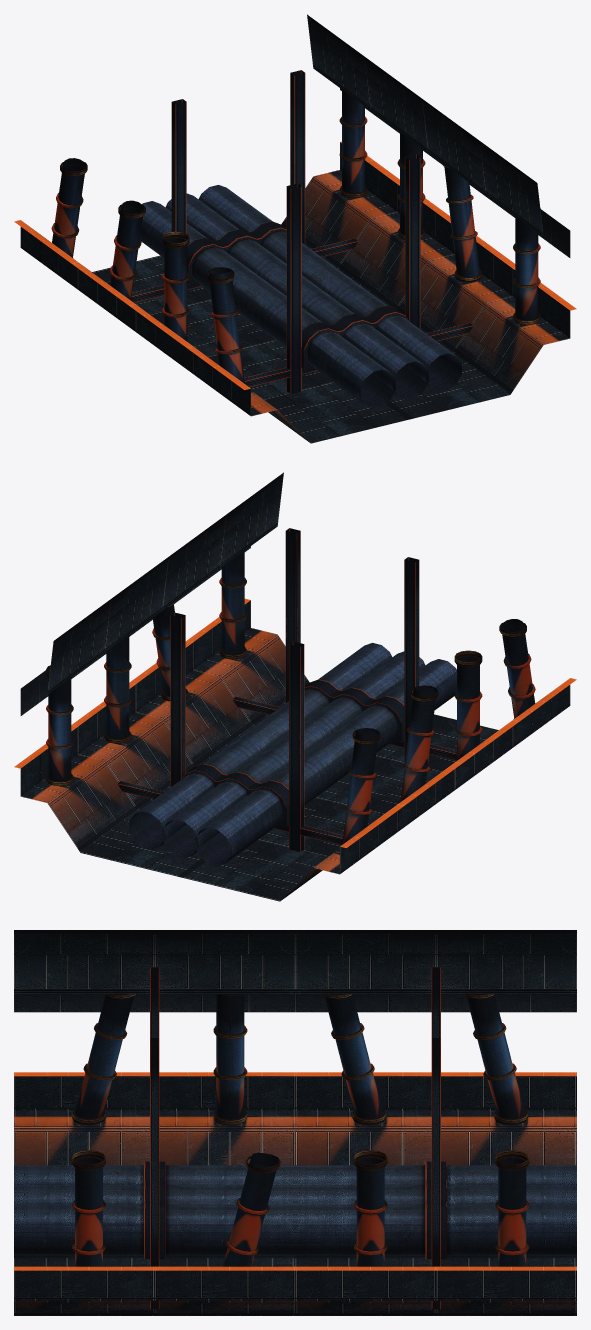
3 renders of one model, top to bottom at view 1: azimuth 30°, elevation 25°; view 2: azimuth 150°, elevation 25°; view 3: azimuth 270°, elevation 25°, orthographic. The views are drawn at different scales.
Visible parts, largest first — view 1: bg_a_wall00, bg_a_wall03, tube_00, bg_a_wall01; view 2: bg_a_wall00, bg_a_wall03, tube_00, bg_a_wall01; view 3: bg_a_wall00, bg_a_wall01, bg_a_wall03, tube_00.
Boxes of the visible parts, bbox=[...] form: bg_a_wall00: bbox=[14, 141, 576, 443]; bg_a_wall03: bbox=[51, 70, 540, 394]; tube_00: bbox=[140, 185, 461, 408]; bg_a_wall01: bbox=[307, 14, 570, 257]; bg_a_wall00: bbox=[14, 598, 576, 901]; bg_a_wall03: bbox=[46, 528, 535, 852]; tube_00: bbox=[129, 643, 456, 866]; bg_a_wall01: bbox=[20, 472, 283, 715]; bg_a_wall00: bbox=[14, 1072, 576, 1315]; bg_a_wall01: bbox=[14, 930, 576, 1012]; bg_a_wall03: bbox=[72, 967, 529, 1309]; tube_00: bbox=[14, 1165, 576, 1254].
Size of the model in its own units: 5000 by 2950 by 6000.
3 materials, 3 textured.
